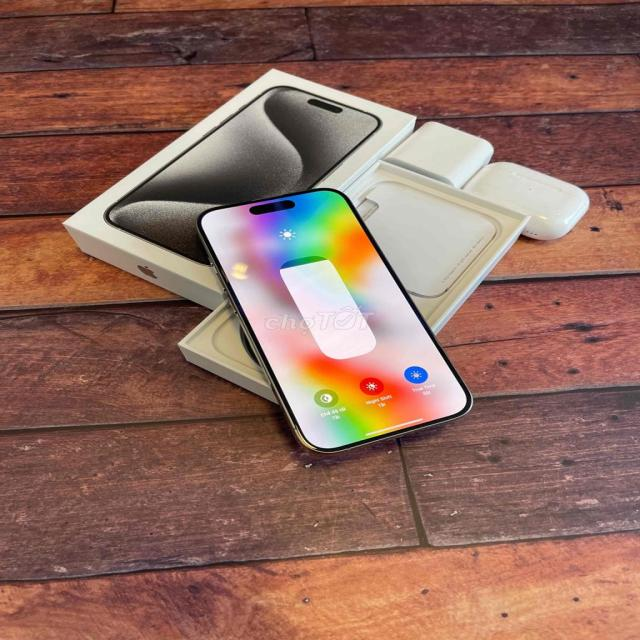gen_15: (192, 183, 477, 462)
